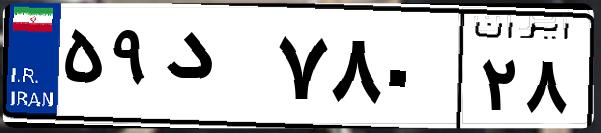0: (385, 28, 445, 110)
2: (475, 38, 525, 113)
5: (57, 26, 110, 100)
7: (270, 28, 330, 110)
8: (330, 28, 385, 110), (525, 38, 570, 115)
9: (110, 28, 158, 98)
د: (158, 20, 270, 120)
